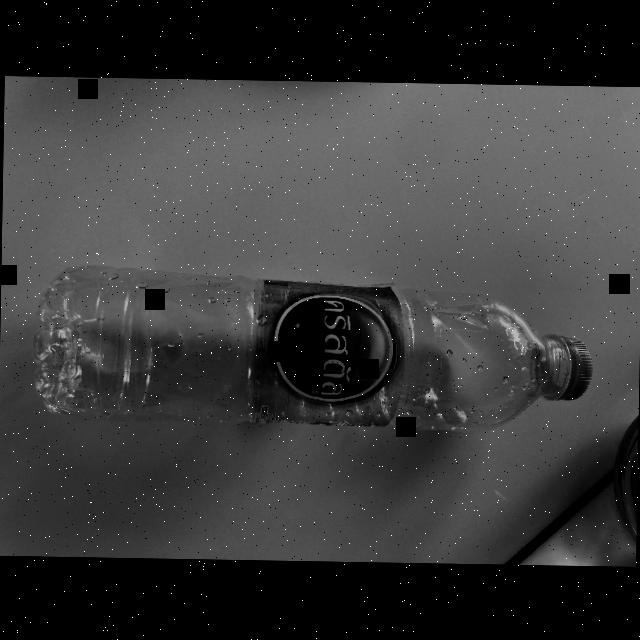plastic_bottle: (22, 267, 596, 438)
plastic_bottle_cap: (538, 332, 592, 403)
